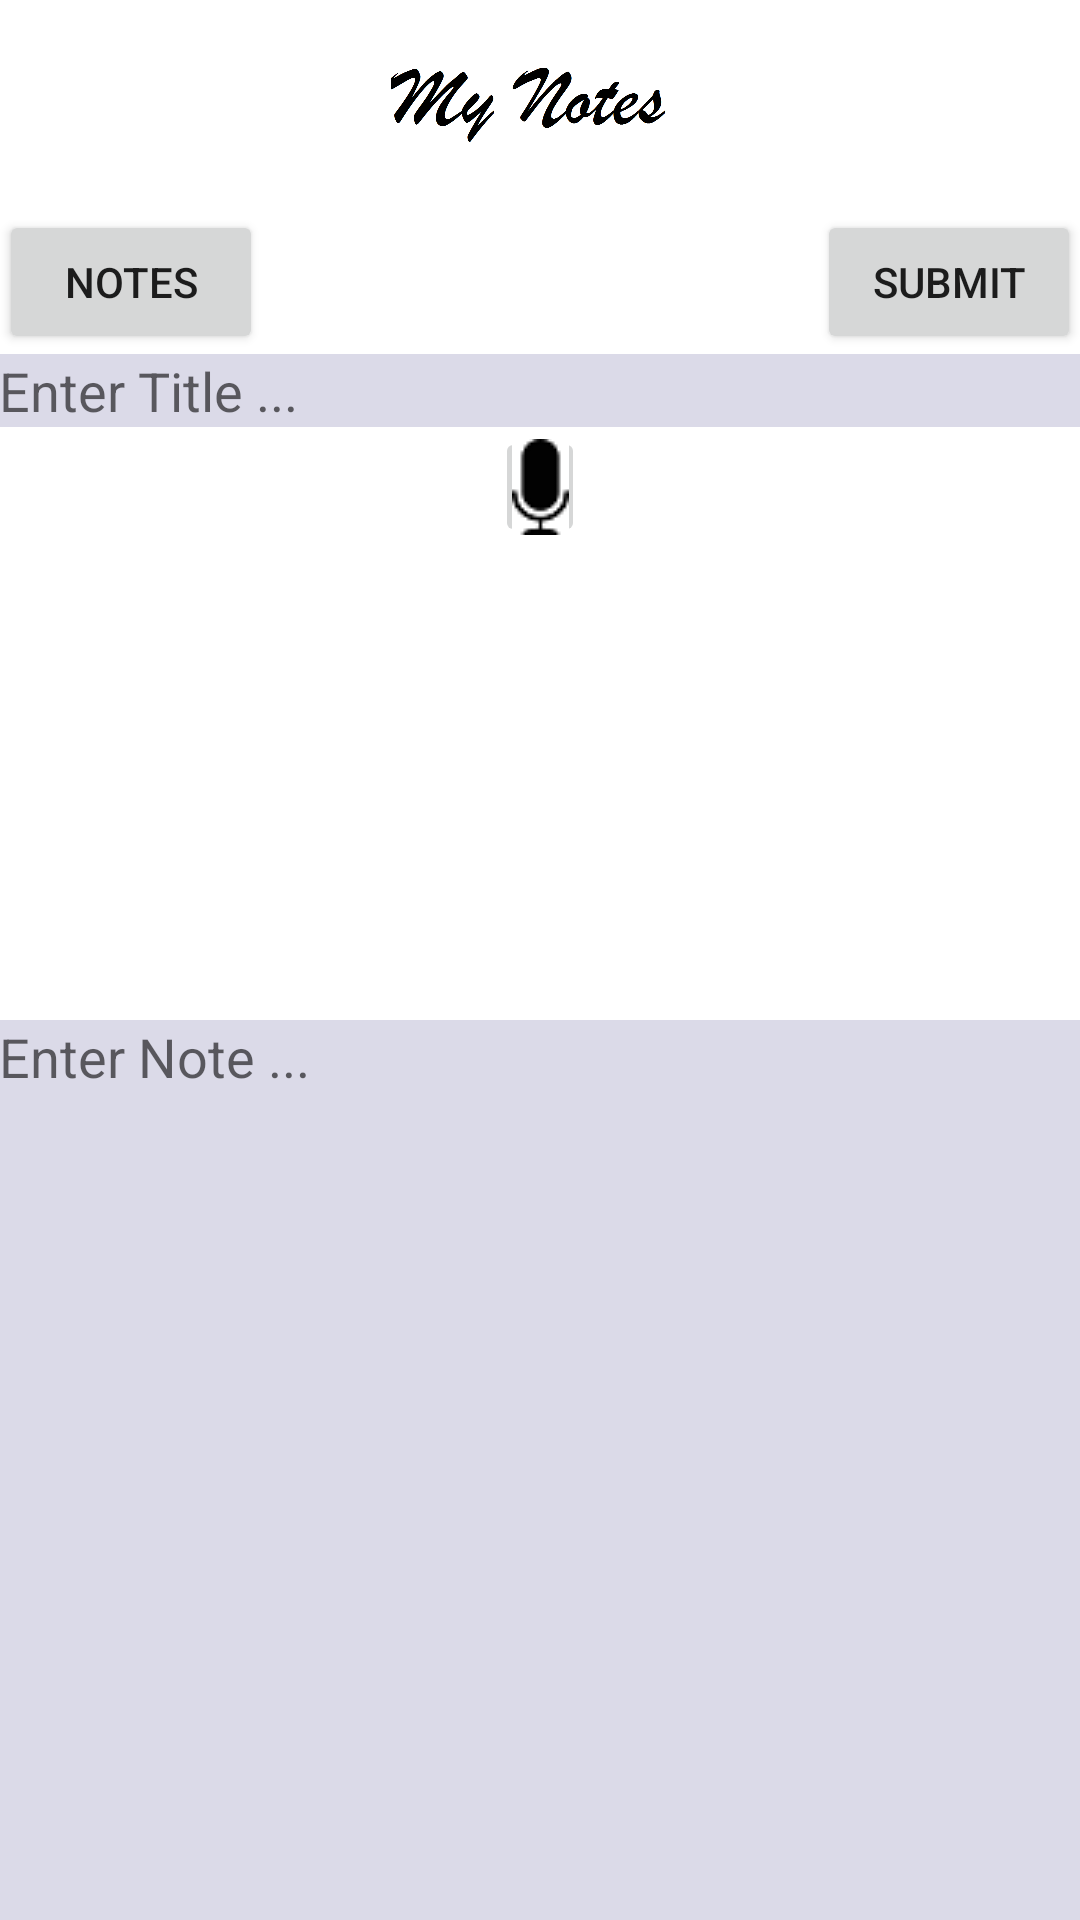

Where to tap for icons on this 1080*1920 app screen, as [x,y]:
mic: [540,487]
